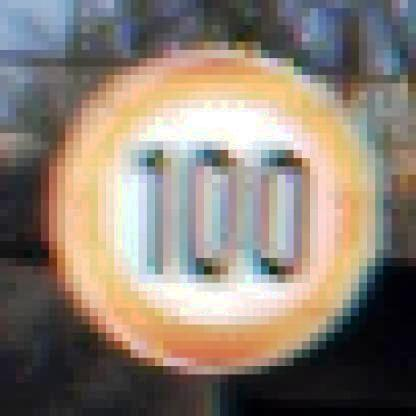Speed Limit -100-: (47, 43, 386, 376)
